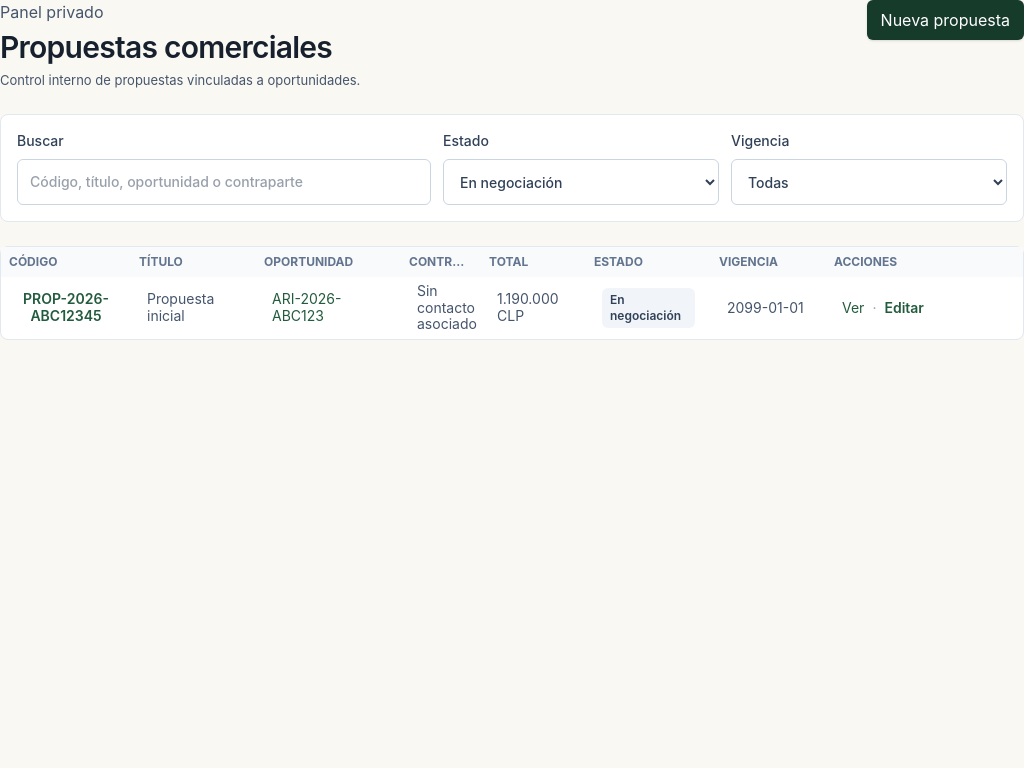
Test: AdminProposals › abre el workspace de propuesta en un modal sin cambiar la URL
Click the button "Ver" at (853, 308), box [842, 300, 864, 316]
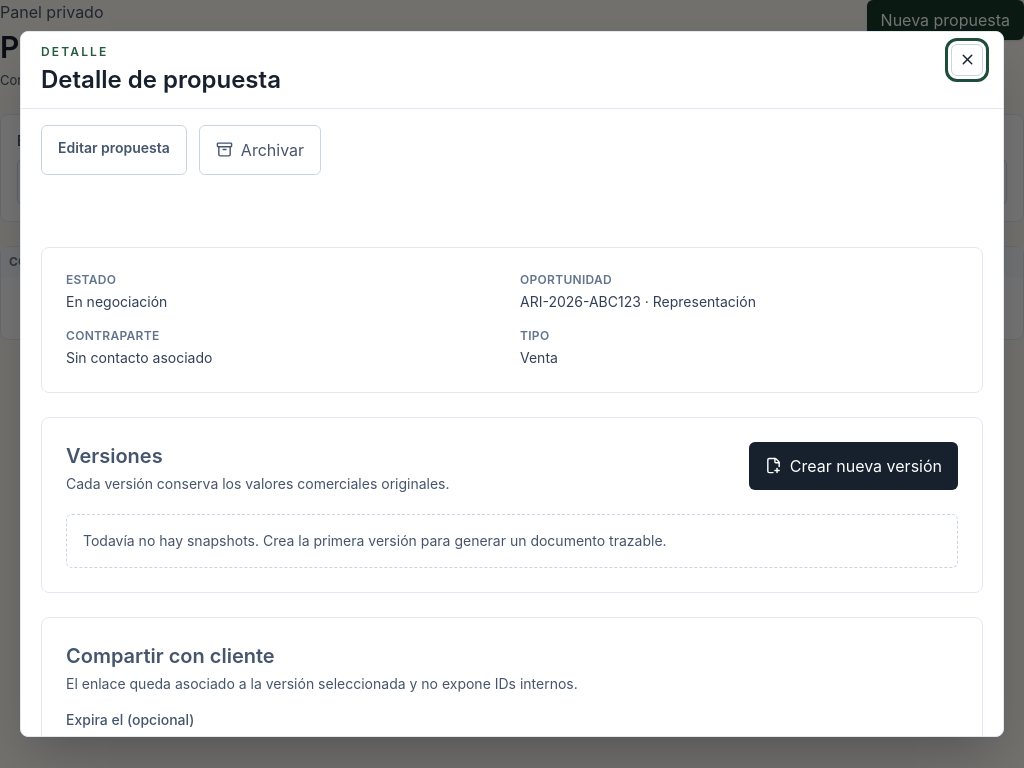
Expected: the dialog shows "Detalle de propuesta", [41, 65, 281, 94]
Press Escape
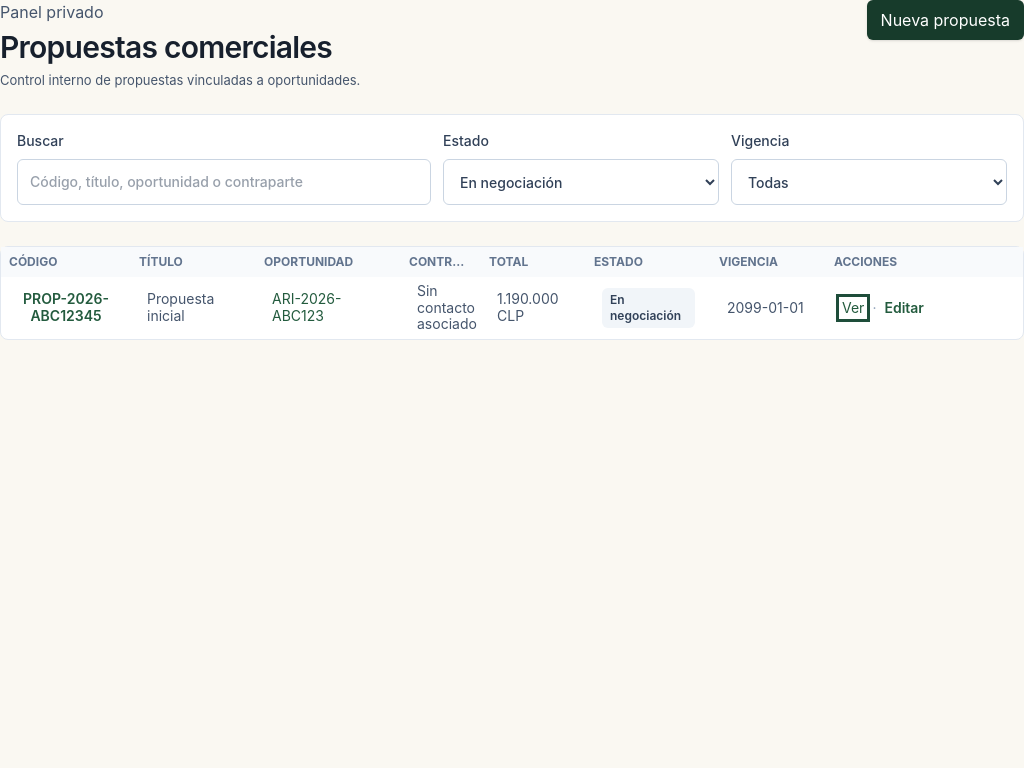
Expected: the dialog is gone
